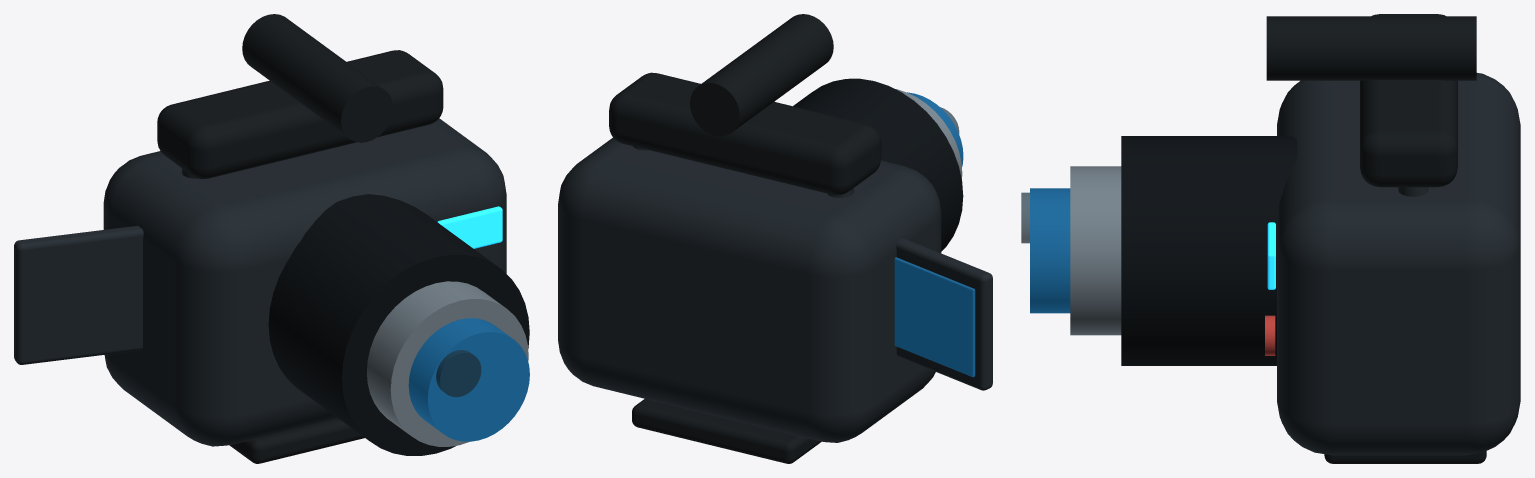
Rendered from camcorder.glb.
3 views of the same model, side by side, from view 1: azimuth 30°, elevation 25°; view 2: azimuth 150°, elevation 25°; view 3: azimuth 270°, elevation 25° (orthographic). The views are drawn at different scales.
Visible parts, largest first — view 1: Camcorder body, Lens barrel, Top carry handle, Flip-out display, Optical lens, Shotgun microphone, Focus ring, Tripod plate, Record status panel, Lens highlight; view 2: Camcorder body, Top carry handle, Lens barrel, Shotgun microphone, Premium digital camcorder, Tripod plate, Flip-out display, Focus ring, Optical lens; view 3: Camcorder body, Lens barrel, Shotgun microphone, Top carry handle, Focus ring, Optical lens, Tripod plate, Record status panel.
Boxes of the visible parts, x1=… form: Camcorder body: x1=103, y1=118, x2=506, y2=446; Lens barrel: x1=268, y1=194, x2=529, y2=455; Top carry handle: x1=157, y1=50, x2=443, y2=179; Flip-out display: x1=14, y1=225, x2=143, y2=364; Optical lens: x1=408, y1=318, x2=529, y2=441; Shotgun microphone: x1=242, y1=14, x2=393, y2=142; Focus ring: x1=366, y1=281, x2=528, y2=446; Tripod plate: x1=229, y1=418, x2=364, y2=463; Record status panel: x1=437, y1=206, x2=502, y2=248; Lens highlight: x1=436, y1=350, x2=481, y2=397; Camcorder body: x1=558, y1=138, x2=941, y2=442; Top carry handle: x1=609, y1=72, x2=881, y2=195; Lens barrel: x1=793, y1=78, x2=963, y2=251; Shotgun microphone: x1=690, y1=14, x2=833, y2=136; Premium digital camcorder: x1=633, y1=146, x2=975, y2=377; Tripod plate: x1=632, y1=399, x2=821, y2=463; Flip-out display: x1=896, y1=238, x2=992, y2=390; Focus ring: x1=895, y1=89, x2=962, y2=179; Optical lens: x1=907, y1=92, x2=963, y2=166; Camcorder body: x1=1277, y1=73, x2=1520, y2=455; Lens barrel: x1=1121, y1=136, x2=1297, y2=365; Shotgun microphone: x1=1266, y1=16, x2=1476, y2=80; Top carry handle: x1=1360, y1=14, x2=1457, y2=187; Focus ring: x1=1070, y1=166, x2=1121, y2=335; Optical lens: x1=1030, y1=188, x2=1070, y2=313; Tripod plate: x1=1324, y1=451, x2=1486, y2=463; Record status panel: x1=1267, y1=222, x2=1275, y2=289.
Bounding box in the file's own units: 1.57 × 1.31 × 1.48.
